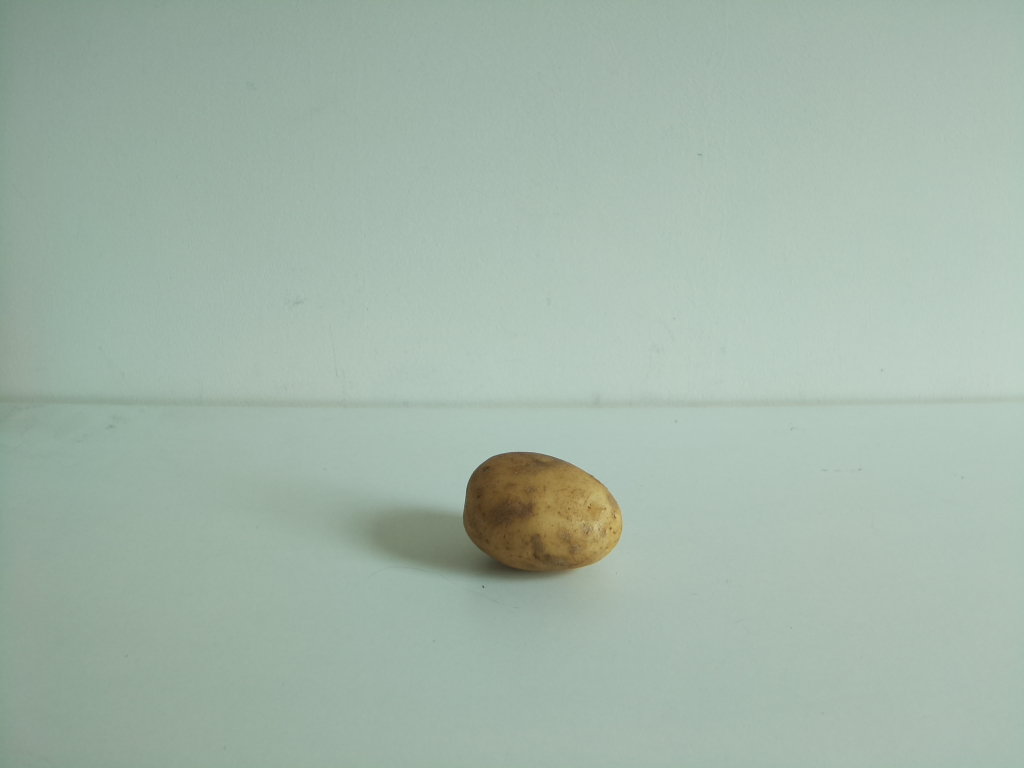potatoes: (463, 454, 622, 577)
